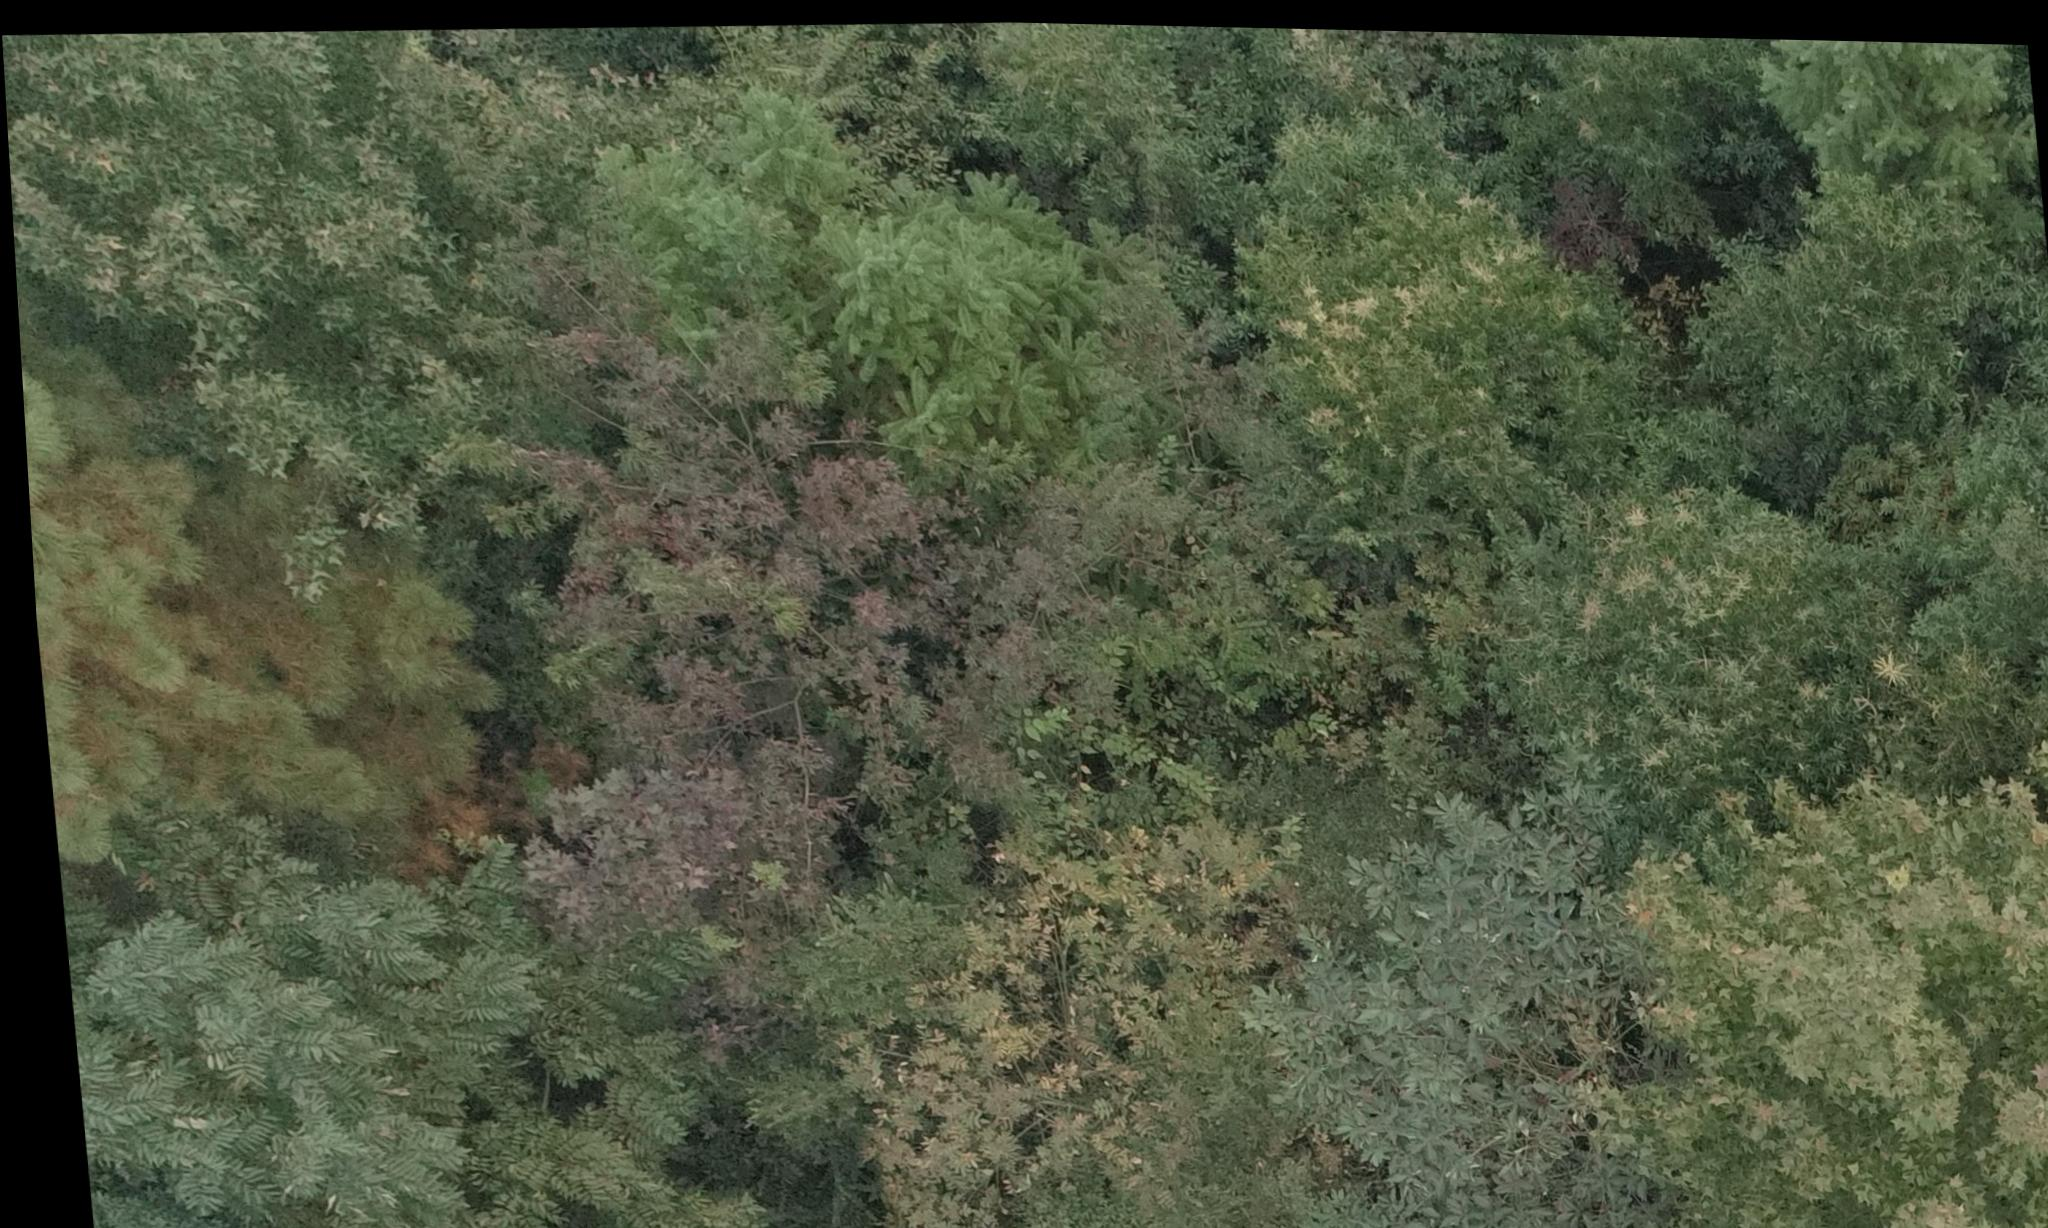light: (39, 446, 498, 855)
